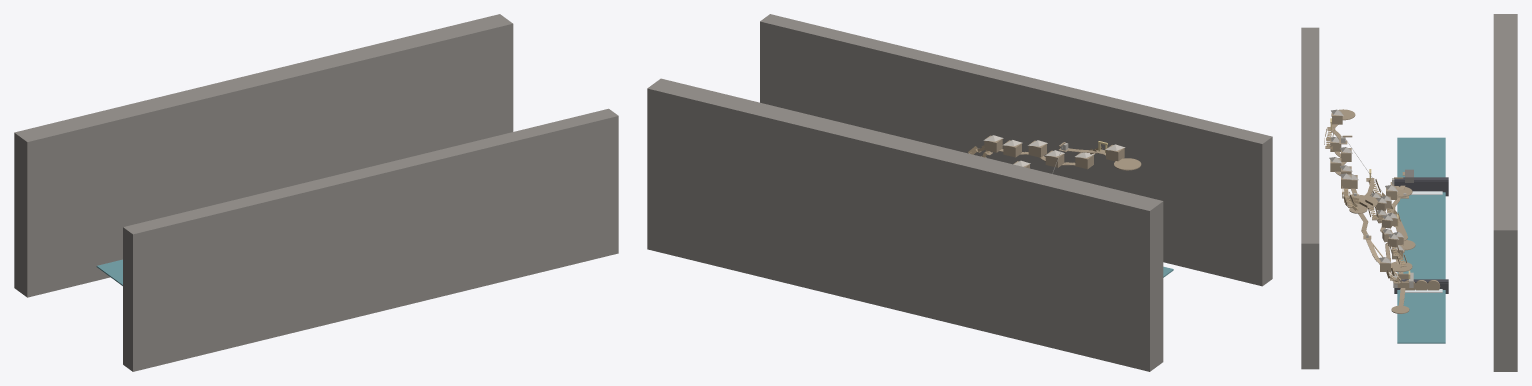
3 views of the same model, side by side, from view 1: azimuth 30°, elevation 25°; view 2: azimuth 150°, elevation 25°; view 3: azimuth 270°, elevation 25° (orthographic). The views are drawn at different scales.
Visible parts, largest first — view 1: cliff_town, cliff_far; view 2: cliff_far, cliff_town; view 3: cliff_far, cliff_town, water_pool-mid, water_pool-downstream, water_pool-upstream, dam_dam-four_wall, walk_lm_quay-deck.
Boxes of the visible parts, <box> form: cliff_town: <box>123,108,618,371</box>; cliff_far: <box>14,14,513,297</box>; cliff_far: <box>647,78,1163,371</box>; cliff_town: <box>760,14,1272,286</box>; cliff_far: <box>1493,14,1517,371</box>; cliff_town: <box>1301,27,1319,369</box>; water_pool-mid: <box>1397,192,1445,279</box>; water_pool-downstream: <box>1397,290,1445,343</box>; water_pool-upstream: <box>1397,137,1445,177</box>; dam_dam-four_wall: <box>1394,180,1448,196</box>; walk_lm_quay-deck: <box>1344,195,1377,209</box>.
Bounding box in the file's own units: 170 × 52 × 72.
